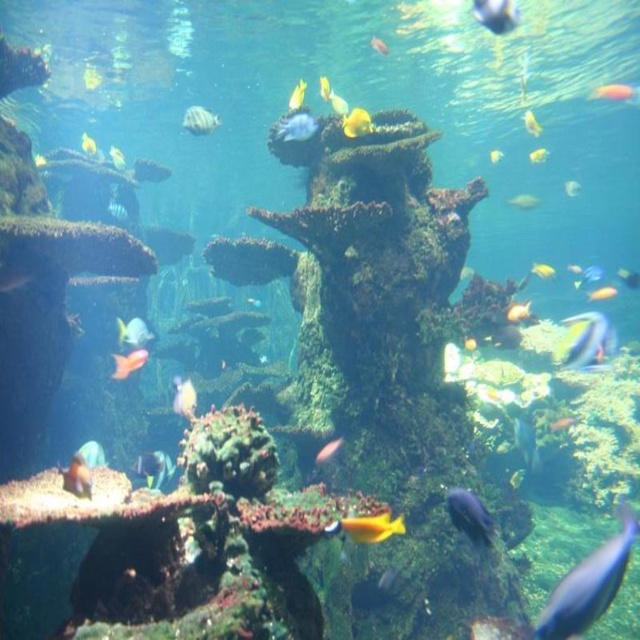Fish: (34, 0, 640, 640)
